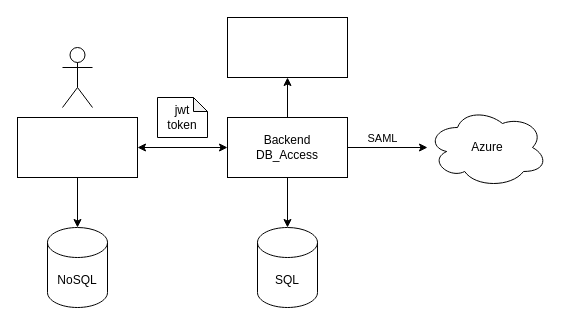
The diagram is 565 pixels wide and 325 high, and some of its shapes have lost their labels. Here are the shapes that lost their labels. From the top down, the box of each, then its label:
(226, 16, 348, 78): Message Broker
(16, 116, 138, 178): Frontend Web-App
